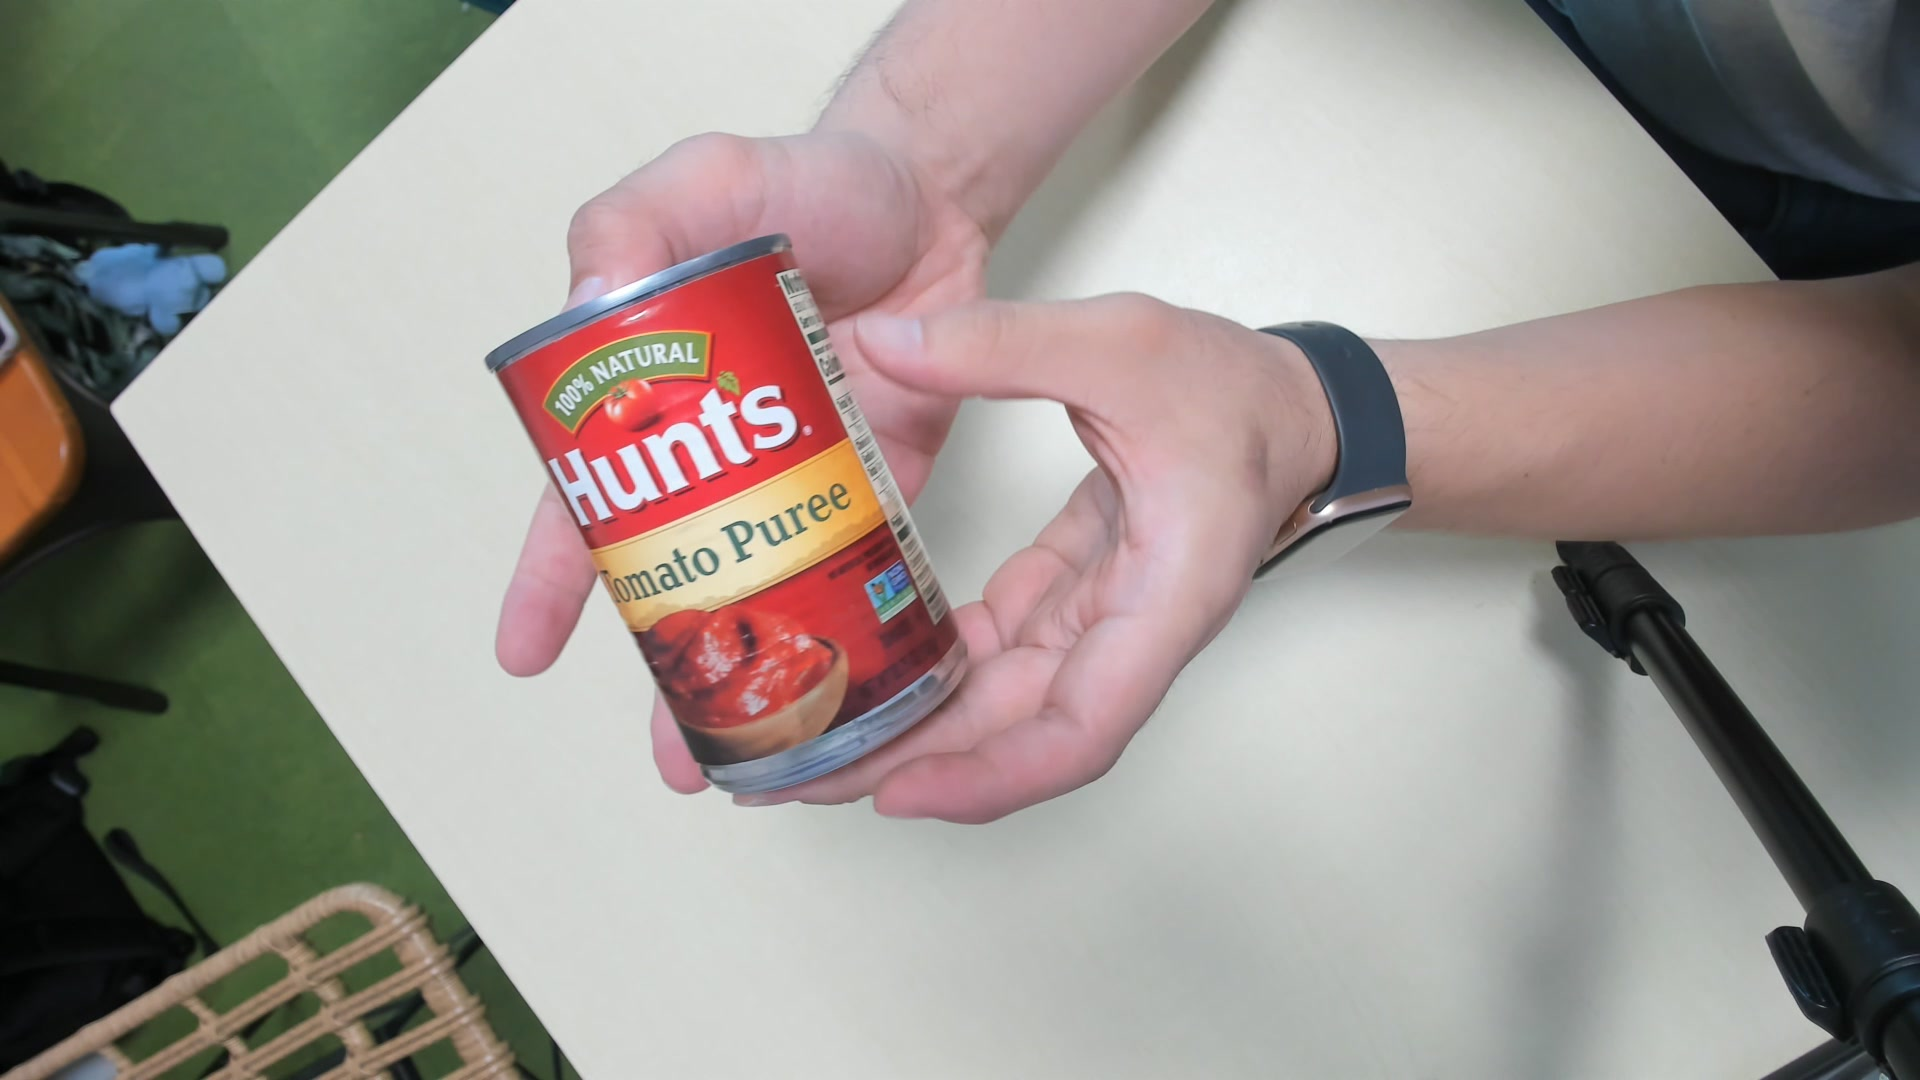OtherSauceDressing_300-399g_NonHalal_NonHealthy: (496, 232, 967, 794)
